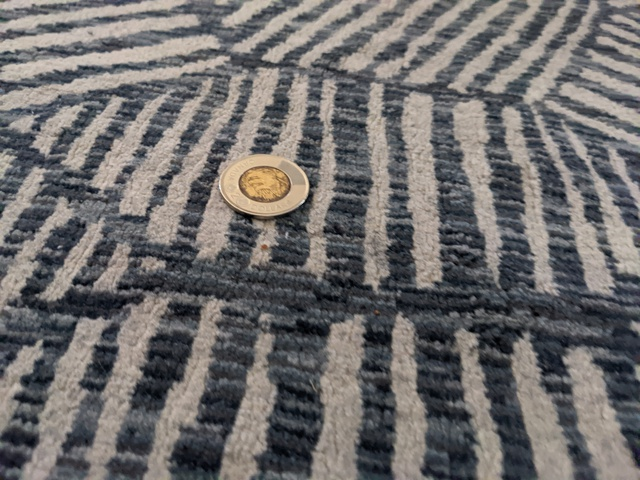twonie: (215, 138, 322, 233)
